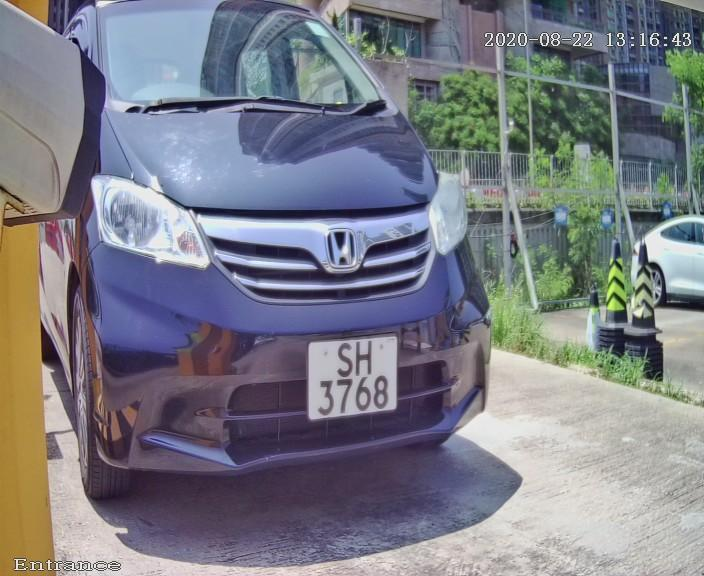Car: (16, 1, 522, 543)
License Plate: (302, 319, 406, 430)
